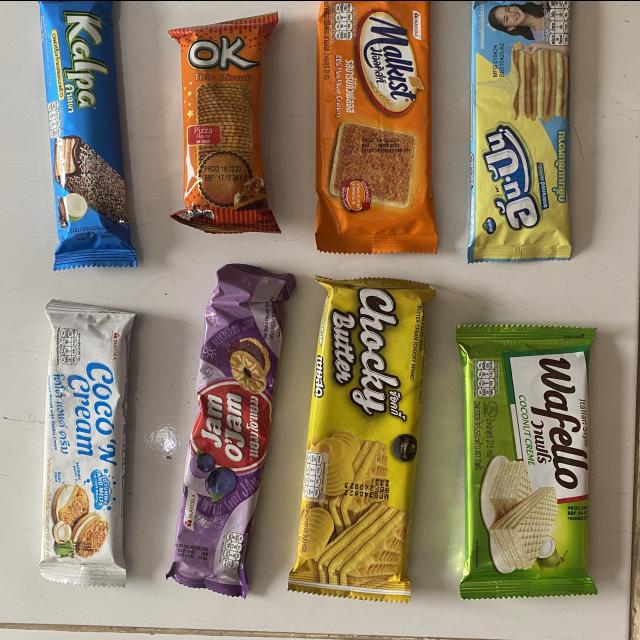plastik: (288, 277, 435, 601), (167, 263, 295, 596), (456, 324, 596, 597), (316, 0, 436, 252), (39, 299, 135, 585), (467, 0, 571, 261), (37, 0, 136, 269), (168, 12, 279, 232)
